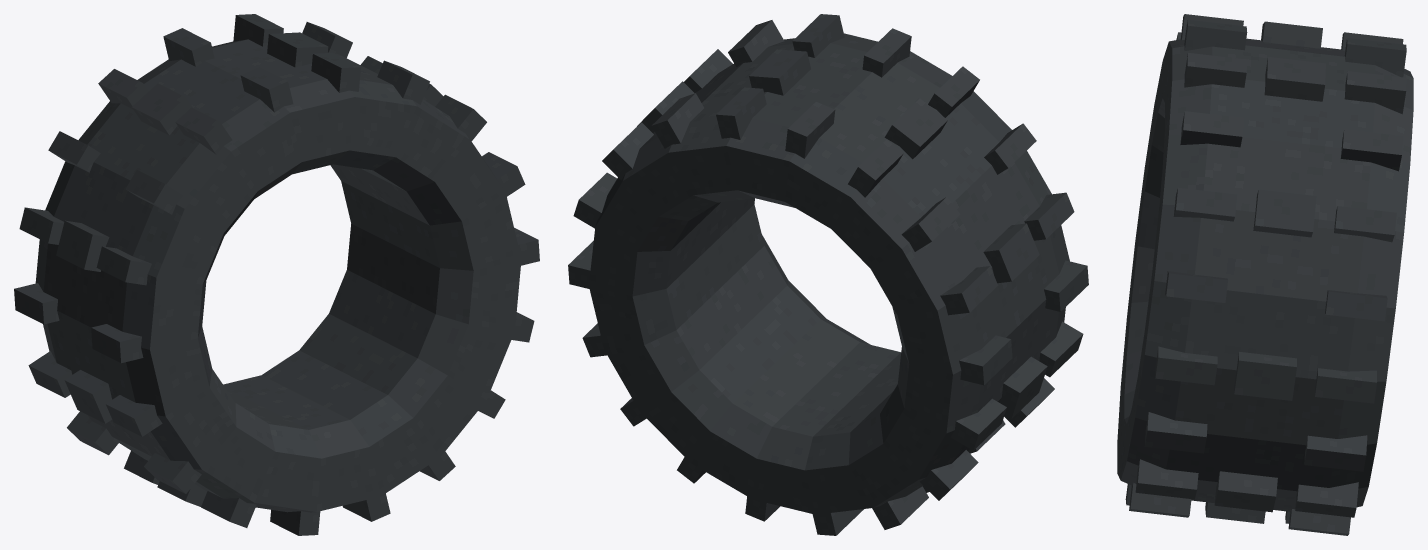
The model's file is tire_wide_or.glb.
3 views of the same model, side by side, from view 1: azimuth 30°, elevation 25°; view 2: azimuth 150°, elevation 25°; view 3: azimuth 270°, elevation 25° (orthographic). The views are drawn at different scales.
Visible parts, largest first — view 1: block_wheel cross section, block_raised off-road stud (×24), block_center block (×4); view 2: block_wheel cross section, block_raised off-road stud (×23), block_center block (×5); view 3: block_wheel cross section, block_raised off-road stud (×20), block_center block (×6).
Part boxes in pixels (x1,y1,x2,y2): block_wheel cross section: [35, 39, 521, 512]; block_raised off-road stud (×24): [14, 14, 539, 535]; block_center block (×4): [56, 32, 328, 423]; block_wheel cross section: [589, 33, 1069, 514]; block_raised off-road stud (×23): [568, 14, 1088, 535]; block_center block (×5): [637, 49, 1047, 419]; block_wheel cross section: [1117, 38, 1413, 511]; block_raised off-road stud (×20): [1129, 14, 1406, 535]; block_center block (×6): [1205, 21, 1325, 523].
Bounding box in the file's own units: 0.5876 × 0.61 × 0.3473.
Materials: 1 (1 with a texture image).
